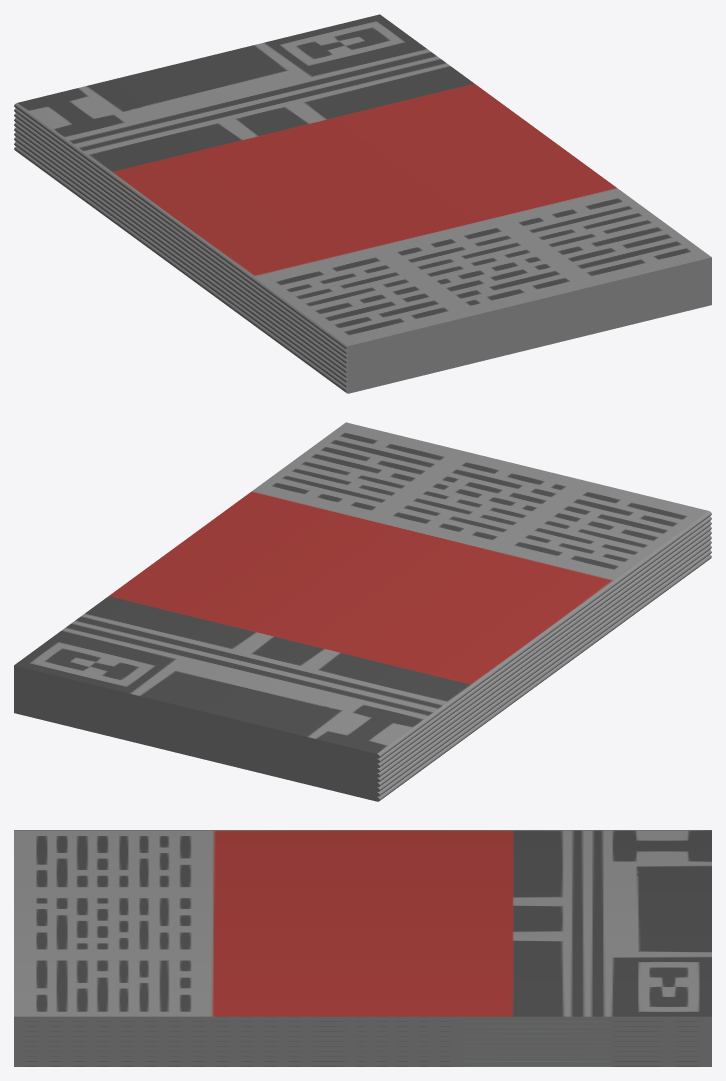
File: NewspaperStack.fbx
3 views of the same model, one above another, from view 1: azimuth 30°, elevation 25°; view 2: azimuth 150°, elevation 25°; view 3: azimuth 270°, elevation 25° (orthographic). The views are drawn at different scales.
Parts seen in each view (by area): view 1: NewspaperStack; view 2: NewspaperStack; view 3: NewspaperStack.
Part boxes in pixels (x1,y1,x2,y2): NewspaperStack: (14, 14, 711, 393); NewspaperStack: (14, 422, 711, 801); NewspaperStack: (14, 830, 711, 1066).
Size of the model in its own units: 0.2748 by 0.0342 by 0.4318.
